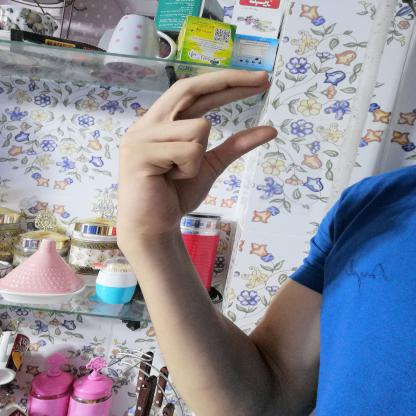DHELL: (104, 63, 286, 246)
